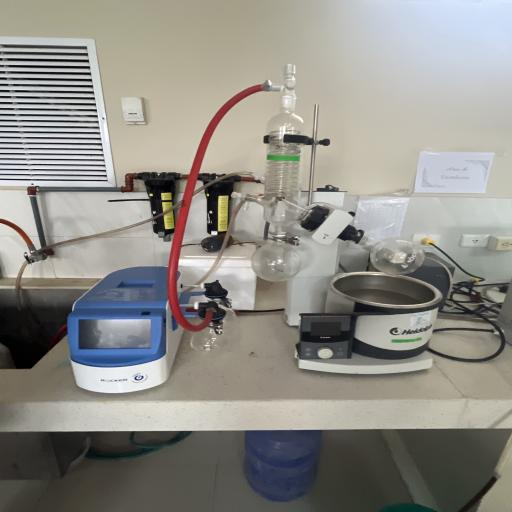Sistema_Rotaevaporacion: (55, 56, 440, 390)
